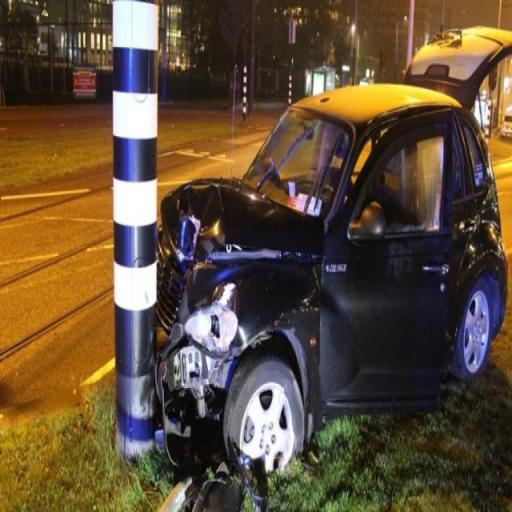小汽车撞物: (116, 76, 506, 468)
